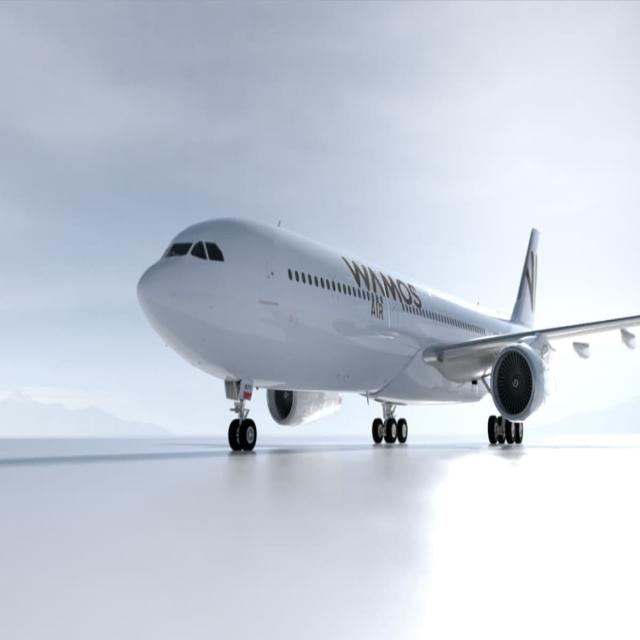aircraft: (126, 154, 640, 506)
